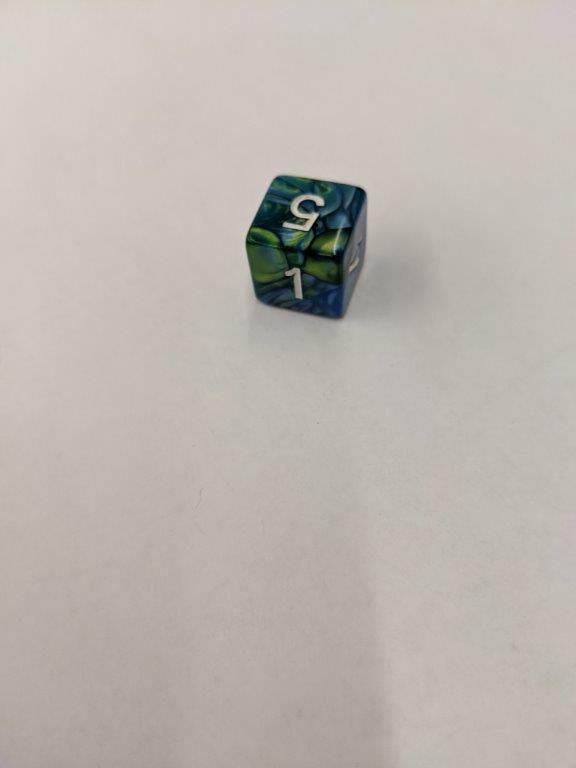d6-5: (246, 173, 370, 322)
